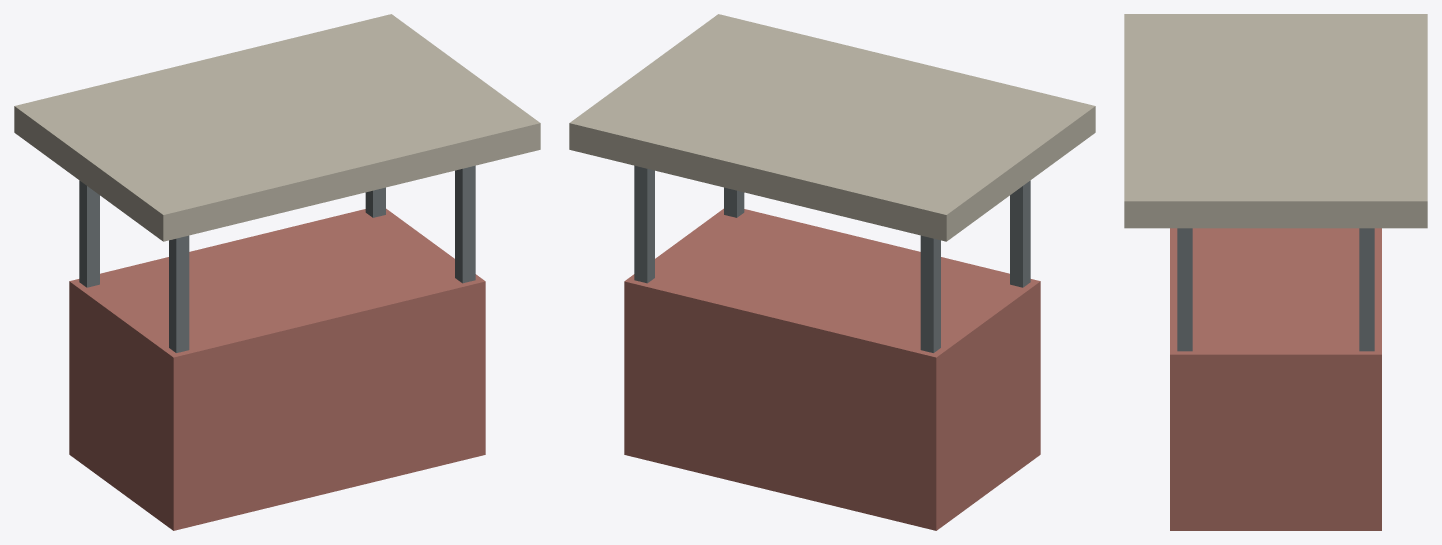
Rendered from iz2_district_chestnut_cart.glb.
3 views of the same model, side by side, from view 1: azimuth 30°, elevation 25°; view 2: azimuth 150°, elevation 25°; view 3: azimuth 270°, elevation 25° (orthographic).
Parts seen in each view (by area): view 1: body; view 2: body; view 3: body.
Boxes of the visible parts, x1,y1,x2,y2 form: body: (14, 14, 540, 530); body: (569, 14, 1095, 530); body: (1124, 14, 1427, 530).
Size of the model in its own units: 1.48 by 1.27 by 1.01.
